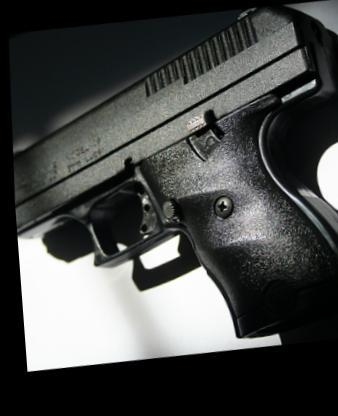pistol: (2, 0, 335, 370)
